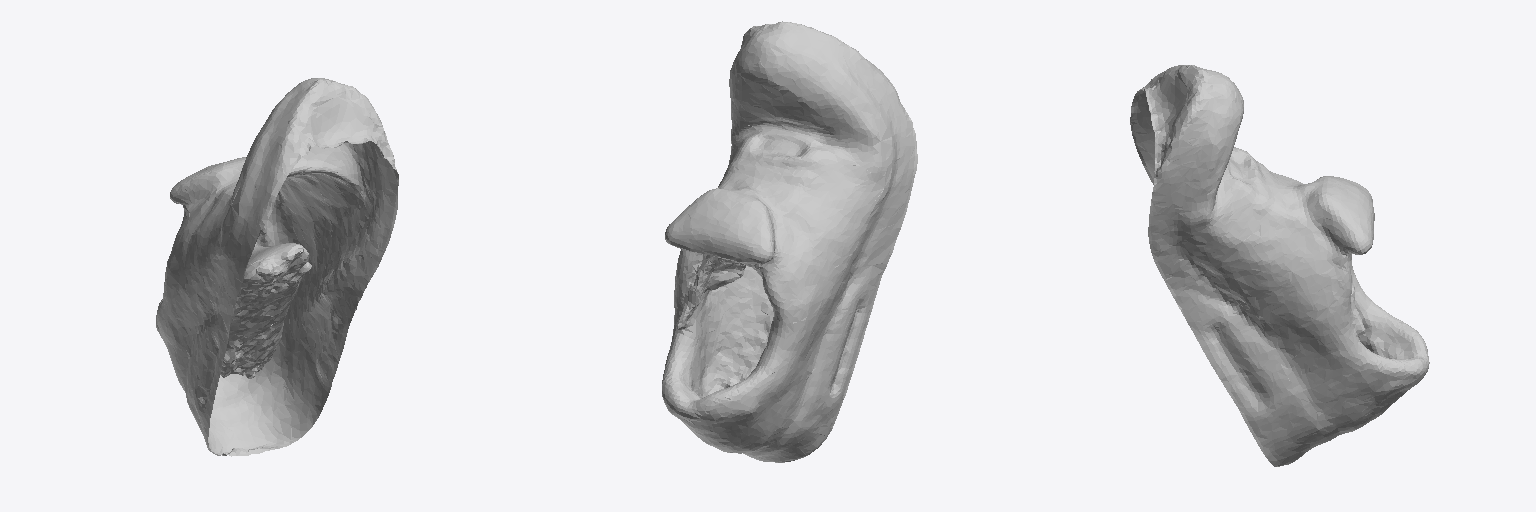
File: nike.obj
3 renders of one model, left to right at view 1: azimuth 30°, elevation 25°; view 2: azimuth 150°, elevation 25°; view 3: azimuth 270°, elevation 25°, orthographic.
Visible parts, largest first — view 1: Mesh_0.003; view 2: Mesh_0.003; view 3: Mesh_0.003.
Part boxes in pixels (left/top/right/bottom): Mesh_0.003: left=156, top=78, right=398, bottom=456; Mesh_0.003: left=662, top=21, right=917, bottom=462; Mesh_0.003: left=1130, top=65, right=1429, bottom=466.
Bounding box in the file's own units: 0.1418 × 0.3391 × 0.2309.